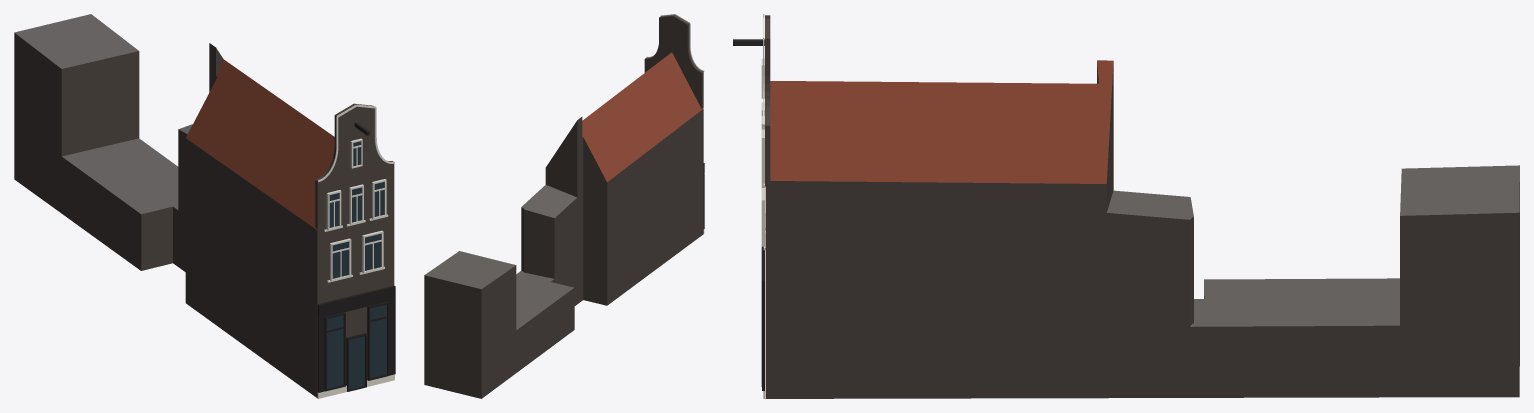
The picture shows the model from 3 angles, left to right: view 1: azimuth 30°, elevation 25°; view 2: azimuth 150°, elevation 25°; view 3: azimuth 270°, elevation 25°; orthographic projection. The views are drawn at different scales.
Parts seen in each view (by area): view 1: spec-0363100012167818; view 2: spec-0363100012167818; view 3: spec-0363100012167818.
Boxes of the visible parts, box(x1,y1,x2,y2) form: spec-0363100012167818: box(14, 14, 395, 398); spec-0363100012167818: box(424, 14, 704, 398); spec-0363100012167818: box(733, 14, 1519, 398).
Size of the model in its own units: 3.92 by 13.36 by 26.62.
